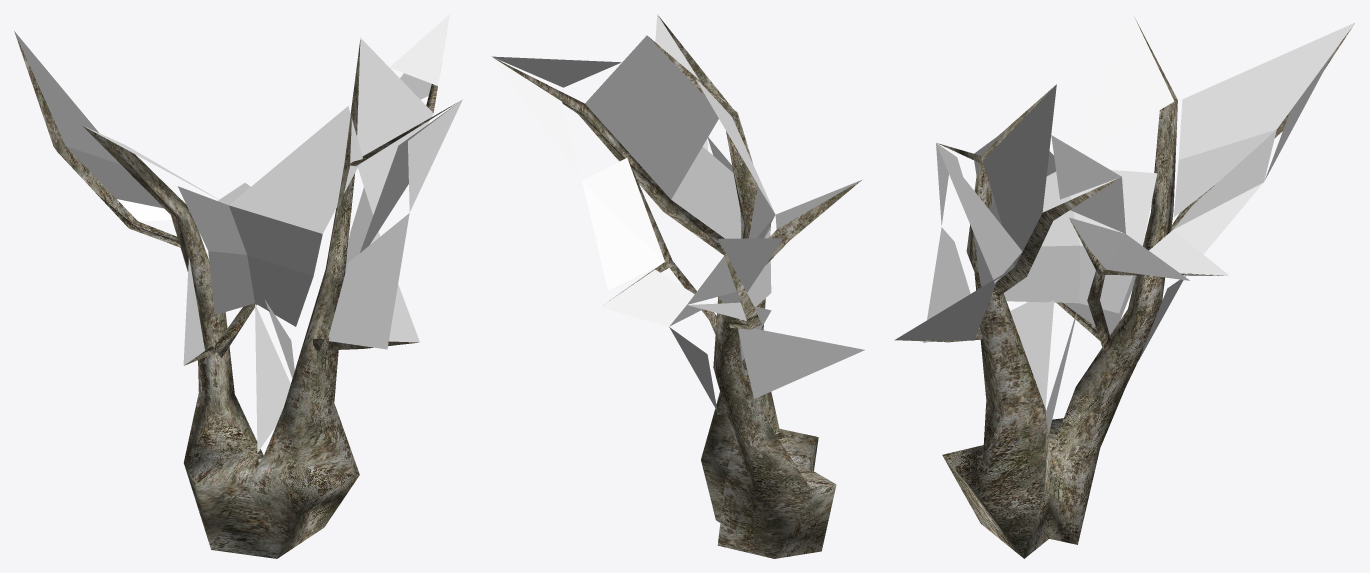
File: poi_lair_web_base_l1.fbx
The picture shows the model from 3 angles, left to right: view 1: azimuth 30°, elevation 25°; view 2: azimuth 150°, elevation 25°; view 3: azimuth 270°, elevation 25°; orthographic projection. The views are drawn at different scales.
Parts seen in each view (by area): view 1: mesh_node; view 2: mesh_node; view 3: mesh_node.
Boxes of the visible parts, <box> form: mesh_node: <box>14,14,462,558</box>; mesh_node: <box>492,14,864,558</box>; mesh_node: <box>894,14,1355,558</box>.
Size of the model in its own units: 3.65 by 4.48 by 3.73.
